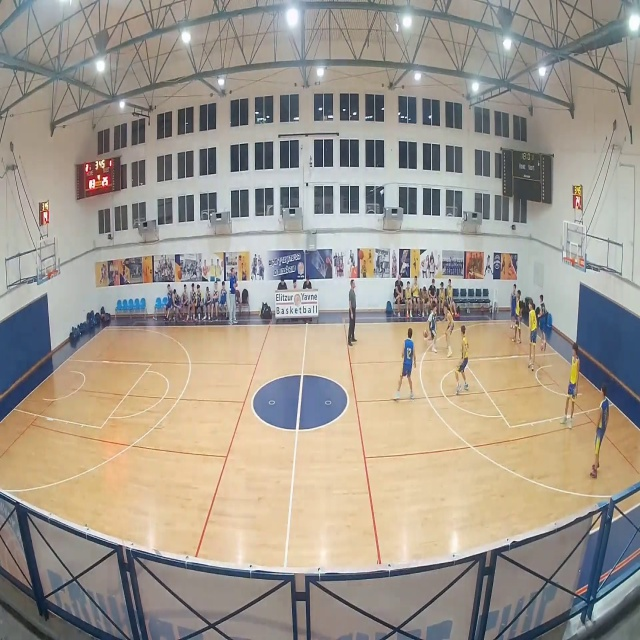Basketball: (423, 330, 430, 339)
